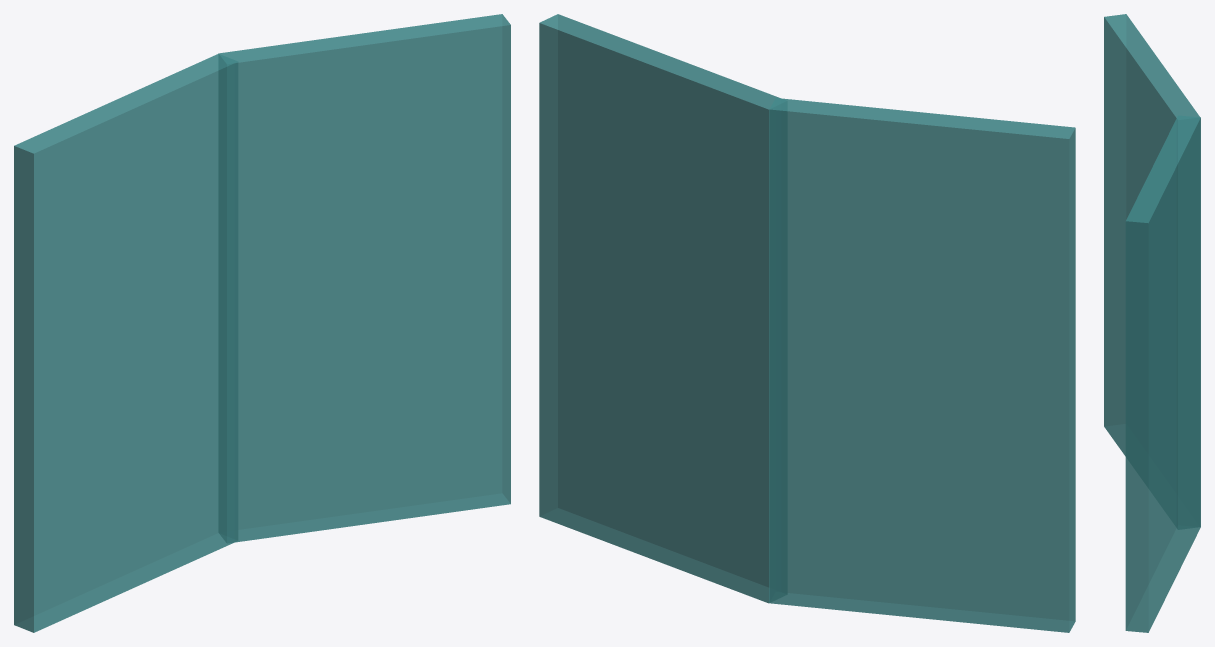
The model's file is Glass_Panels.fbx.
3 views of the same model, side by side, from view 1: azimuth 30°, elevation 25°; view 2: azimuth 150°, elevation 25°; view 3: azimuth 270°, elevation 25° (orthographic). The views are drawn at different scales.
Parts seen in each view (by area): view 1: Glass_Panels; view 2: Glass_Panels; view 3: Glass_Panels.
Boxes of the visible parts, x1,y1,x2,y2 form: Glass_Panels: (14, 14, 510, 632); Glass_Panels: (539, 14, 1075, 632); Glass_Panels: (1104, 14, 1200, 632).
Bounding box in the file's own units: 9.07 × 8.28 × 1.77.
